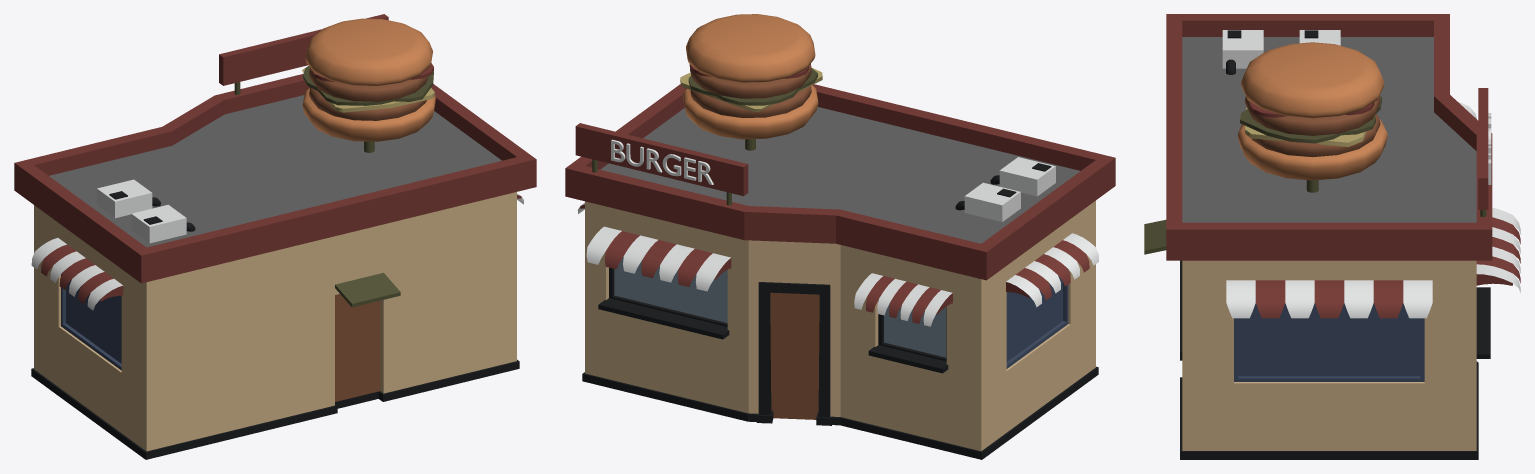
Rendered from burger.fbx.
The picture shows the model from 3 angles, left to right: view 1: azimuth 30°, elevation 25°; view 2: azimuth 150°, elevation 25°; view 3: azimuth 270°, elevation 25°; orthographic projection. The views are drawn at different scales.
Parts seen in each view (by area): view 1: Burger_Place_1; view 2: Burger_Place_1; view 3: Burger_Place_1.
Part boxes in pixels (x1=…): Burger_Place_1: x1=14, y1=14, x2=536, y2=459; Burger_Place_1: x1=565, y1=14, x2=1115, y2=459; Burger_Place_1: x1=1144, y1=14, x2=1520, y2=459.
Size of the model in its own units: 1095 by 754 by 746.
